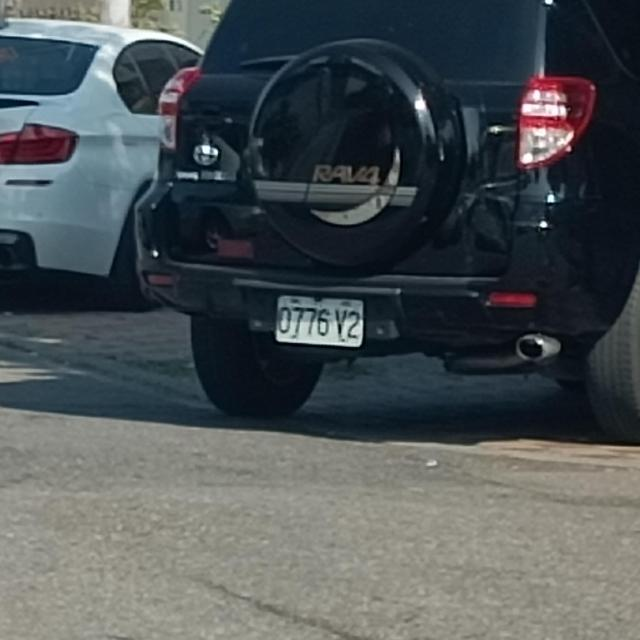W: (274, 293, 365, 348)
